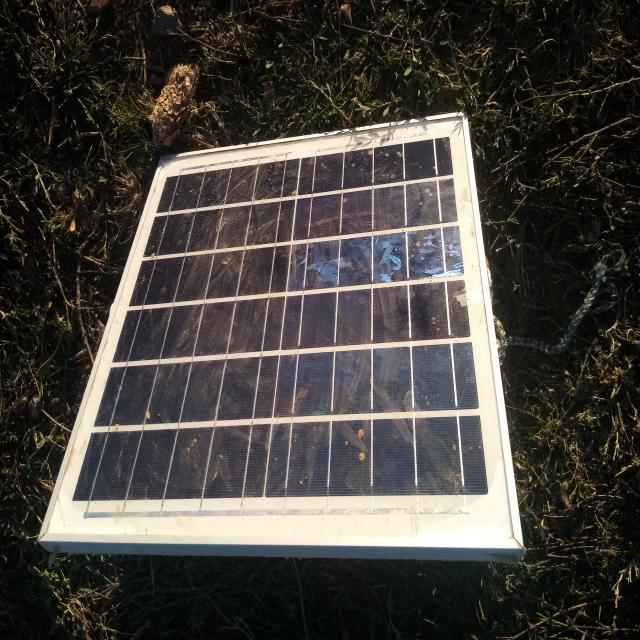faulty: (42, 117, 515, 546)
